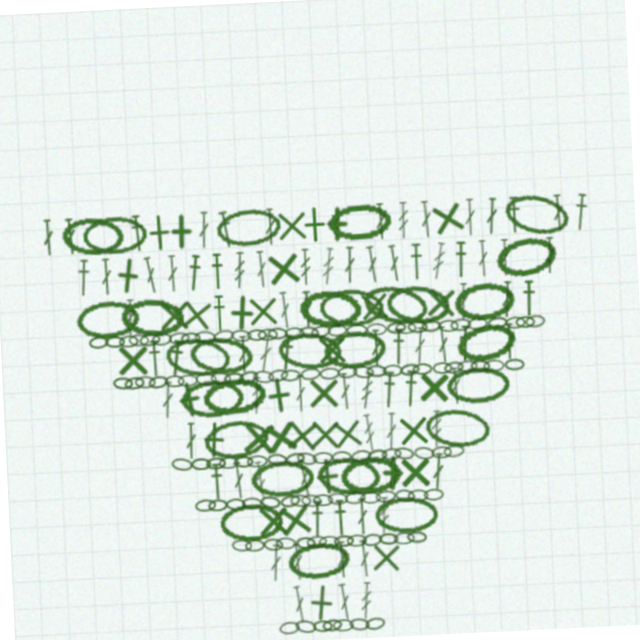chain: (506, 199, 578, 251), (361, 284, 432, 334), (452, 327, 519, 375), (162, 328, 231, 374), (496, 243, 563, 290), (418, 412, 487, 457), (186, 329, 254, 373), (308, 455, 375, 499), (385, 287, 452, 331), (197, 414, 265, 456), (275, 329, 341, 372), (120, 288, 185, 330), (298, 288, 363, 330), (453, 288, 518, 330), (65, 204, 130, 246), (220, 204, 286, 245), (319, 289, 386, 329), (275, 540, 340, 581), (198, 372, 263, 413), (76, 289, 141, 329), (321, 331, 385, 371), (332, 457, 395, 497), (332, 205, 396, 244), (87, 206, 152, 244), (177, 374, 241, 412), (365, 500, 428, 538), (243, 458, 306, 496), (443, 374, 506, 412), (210, 500, 274, 537), (289, 450, 311, 466), (280, 618, 302, 633), (164, 450, 186, 465), (235, 366, 257, 381), (212, 324, 234, 339), (251, 492, 272, 507), (271, 492, 292, 507), (386, 492, 407, 507), (278, 450, 299, 465), (387, 450, 408, 465), (265, 366, 286, 381), (310, 324, 331, 339), (250, 367, 272, 381), (350, 367, 372, 381), (264, 619, 285, 633), (334, 619, 355, 633), (350, 619, 371, 633), (252, 535, 273, 549), (351, 535, 372, 549), (292, 493, 313, 507), (344, 451, 365, 465), (360, 451, 381, 465), (407, 451, 428, 465), (121, 367, 142, 381), (145, 367, 166, 381), (397, 367, 418, 381), (441, 367, 462, 381), (230, 325, 251, 339), (298, 325, 319, 339), (281, 493, 303, 506), (138, 325, 160, 338), (307, 619, 328, 632), (186, 493, 207, 506), (336, 493, 357, 506), (260, 451, 281, 464), (437, 451, 458, 464), (132, 367, 153, 380), (193, 367, 214, 380), (168, 325, 189, 338), (194, 325, 215, 338), (450, 325, 471, 338), (221, 535, 241, 548), (265, 535, 285, 548), (296, 535, 316, 548), (396, 535, 416, 548), (319, 493, 339, 506), (367, 493, 387, 506), (375, 451, 395, 464), (110, 367, 130, 380), (208, 367, 228, 380), (298, 367, 318, 380), (335, 367, 355, 380), (364, 367, 384, 380), (455, 367, 475, 380), (468, 367, 488, 380), (88, 325, 108, 338), (128, 325, 148, 338), (151, 325, 171, 338), (267, 325, 287, 338), (327, 325, 347, 338), (386, 325, 406, 338), (407, 325, 427, 338), (421, 325, 441, 338), (467, 325, 487, 338), (487, 325, 507, 338), (525, 325, 545, 338), (318, 620, 339, 632), (308, 536, 329, 548), (383, 536, 404, 548), (399, 494, 420, 506), (240, 452, 261, 464), (481, 368, 502, 380), (346, 326, 367, 338), (395, 326, 416, 338), (298, 620, 318, 632), (234, 536, 254, 548), (285, 536, 305, 548), (323, 536, 343, 548), (336, 536, 356, 548), (368, 536, 388, 548), (199, 494, 219, 506), (217, 494, 237, 506), (233, 494, 253, 506), (304, 494, 324, 506), (352, 494, 372, 506), (415, 494, 435, 506), (184, 452, 204, 464), (199, 452, 219, 464), (212, 452, 232, 464), (227, 452, 247, 464), (306, 452, 326, 464), (325, 452, 345, 464), (425, 452, 445, 464), (162, 368, 182, 380), (175, 368, 195, 380), (221, 368, 241, 380), (278, 368, 298, 380), (317, 368, 337, 380), (380, 368, 400, 380), (410, 368, 430, 380), (430, 368, 450, 380), (502, 368, 522, 380), (104, 326, 124, 338), (118, 326, 138, 338), (180, 326, 200, 338), (246, 326, 266, 338), (257, 326, 277, 338), (284, 326, 304, 338), (366, 326, 386, 338), (438, 326, 458, 338), (505, 326, 525, 338), (515, 326, 535, 338)
double: (288, 458, 306, 496), (255, 332, 273, 370), (144, 248, 162, 286), (278, 584, 294, 622), (323, 584, 339, 622), (367, 248, 383, 286), (389, 248, 405, 286), (423, 458, 438, 496), (411, 332, 426, 369), (278, 290, 293, 327), (489, 206, 504, 243), (257, 542, 271, 579), (279, 542, 293, 579), (346, 542, 360, 579), (224, 458, 238, 495), (379, 416, 393, 453), (157, 374, 171, 411), (335, 374, 349, 411), (435, 332, 449, 369), (457, 290, 471, 327), (501, 290, 515, 327), (257, 248, 271, 285), (68, 206, 82, 243), (424, 206, 438, 243), (324, 542, 337, 579), (179, 416, 192, 453), (446, 374, 459, 411), (124, 290, 137, 327), (346, 248, 359, 285), (546, 248, 559, 285), (46, 206, 59, 243), (202, 206, 215, 243), (379, 206, 392, 243), (557, 206, 570, 243), (347, 500, 359, 537), (291, 374, 303, 411), (236, 332, 248, 369), (369, 332, 381, 369), (502, 332, 514, 369), (302, 290, 314, 327), (103, 248, 115, 285), (169, 248, 181, 285), (480, 248, 492, 285), (502, 248, 514, 285), (269, 206, 281, 243), (469, 206, 481, 243)
half_double: (165, 332, 184, 370), (276, 332, 295, 370), (221, 206, 240, 244), (188, 248, 206, 286), (577, 206, 595, 244), (377, 374, 394, 412), (399, 374, 416, 412), (389, 332, 405, 369), (456, 332, 472, 369), (78, 248, 94, 285), (134, 206, 150, 243), (300, 500, 315, 537), (522, 290, 537, 327), (456, 248, 471, 285), (324, 500, 338, 537), (202, 458, 216, 495), (146, 332, 160, 369), (213, 290, 227, 327), (213, 248, 227, 285), (412, 248, 426, 285), (512, 206, 526, 243)
single: (431, 203, 474, 246), (254, 414, 296, 456), (165, 372, 207, 414), (176, 288, 218, 330), (287, 582, 328, 623), (265, 498, 306, 539), (276, 414, 317, 455), (110, 246, 151, 287), (233, 415, 273, 455), (322, 415, 362, 455), (255, 373, 295, 413), (222, 289, 262, 329), (266, 247, 306, 287), (355, 541, 394, 580), (300, 457, 339, 496), (366, 457, 405, 496), (189, 415, 228, 454), (300, 415, 339, 454), (411, 373, 450, 412), (422, 289, 461, 328), (389, 416, 427, 454), (301, 374, 339, 412), (112, 332, 150, 370), (356, 290, 394, 328), (145, 206, 183, 244), (167, 206, 205, 244), (323, 206, 361, 244), (245, 500, 282, 537), (389, 458, 426, 495), (312, 332, 349, 369), (156, 290, 193, 327), (245, 290, 282, 327), (278, 206, 315, 243), (301, 206, 338, 243)
treble: (432, 248, 451, 286), (355, 374, 372, 412), (245, 458, 261, 496), (356, 416, 372, 454), (323, 248, 339, 286), (345, 584, 360, 621), (424, 416, 438, 453), (246, 374, 260, 411), (235, 248, 249, 285), (368, 500, 381, 537), (302, 248, 314, 285), (402, 206, 414, 243)
